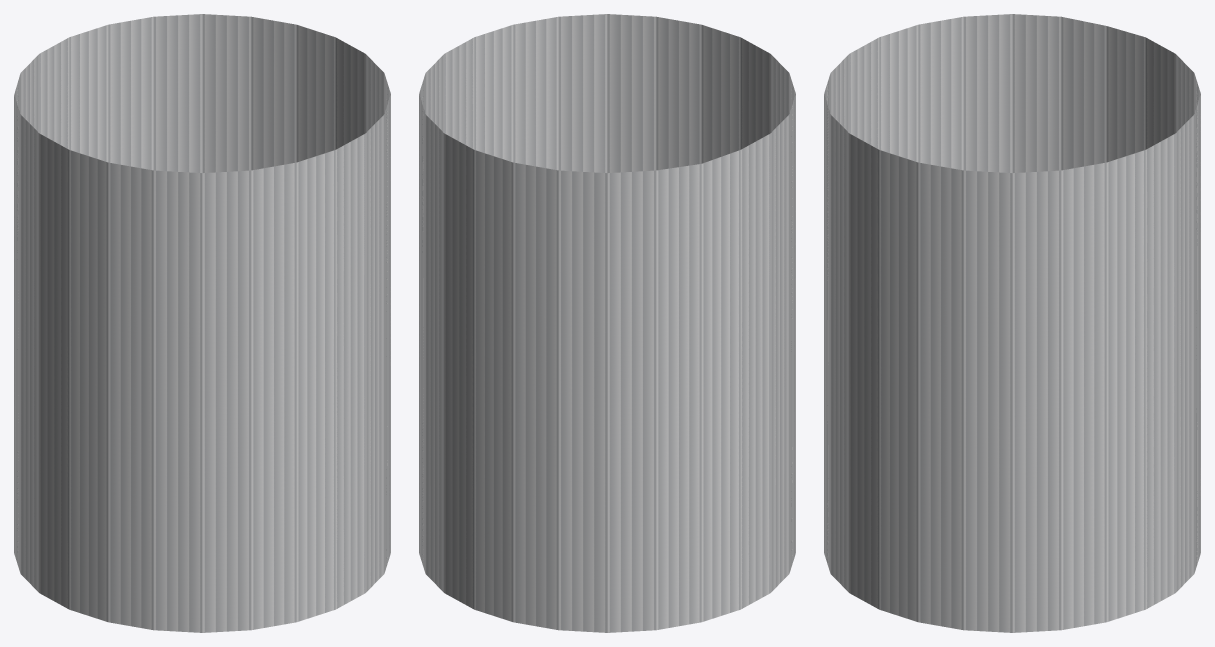
3 views of the same model, side by side, from view 1: azimuth 30°, elevation 25°; view 2: azimuth 150°, elevation 25°; view 3: azimuth 270°, elevation 25° (orthographic).
Visible parts, largest first — view 1: mesh1_mesh1-geometry; view 2: mesh1_mesh1-geometry; view 3: mesh1_mesh1-geometry.
Part boxes in pixels (bbox=[...]): mesh1_mesh1-geometry: bbox=[14, 14, 390, 632]; mesh1_mesh1-geometry: bbox=[419, 14, 795, 632]; mesh1_mesh1-geometry: bbox=[824, 14, 1200, 632].
Bounding box in the file's own units: 0.5121 × 0.6896 × 0.5121.
